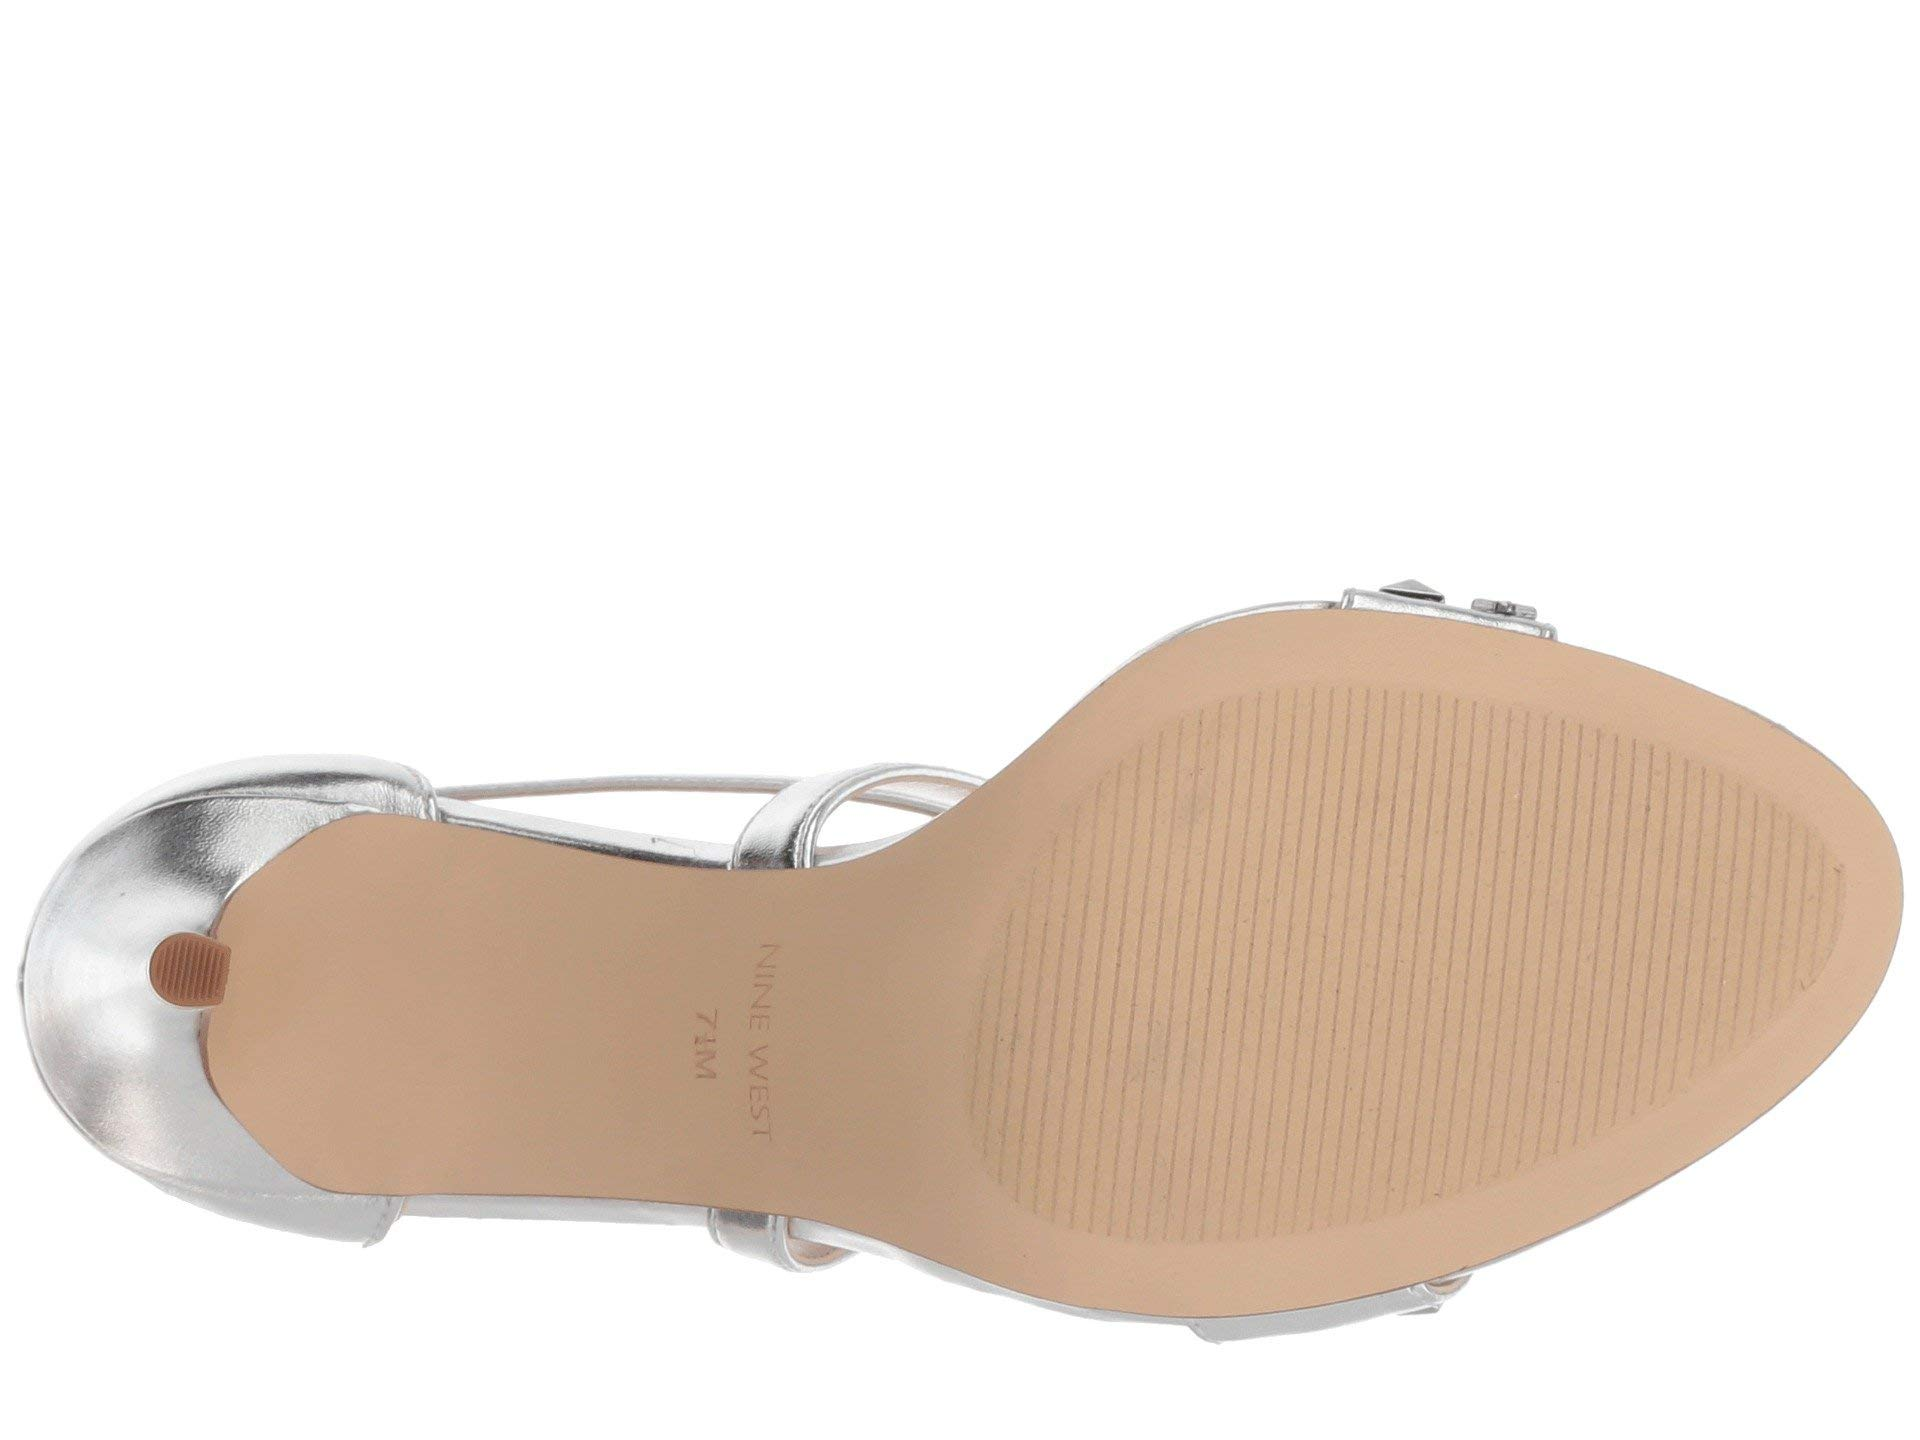exclude: (213, 634, 1030, 1370)
line: (1129, 746, 1450, 1048), (1459, 743, 1760, 1036), (1014, 1071, 1184, 1227)
